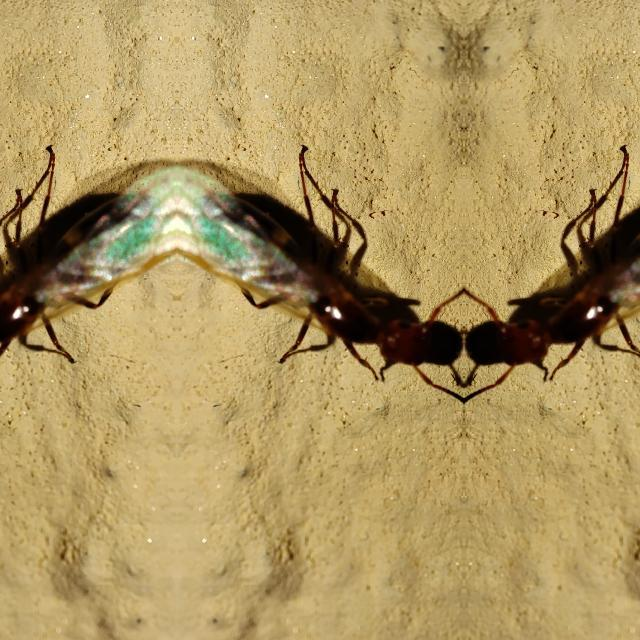Colobopsis: (178, 148, 428, 410), (0, 148, 174, 410), (498, 148, 640, 410)
